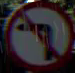Don't turn left: (6, 1, 74, 72)
